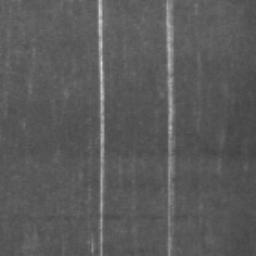Bright scratch: (166, 0, 176, 256), (98, 0, 104, 256)
